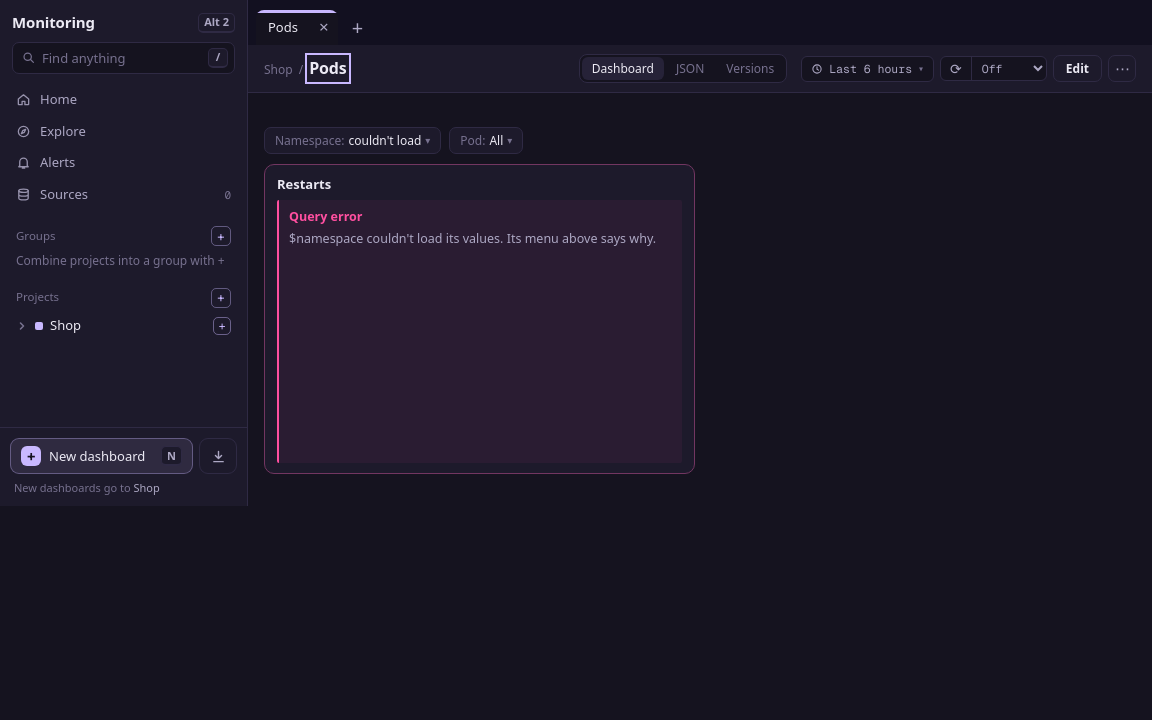
Test case: Dashboard variables › a variable whose project has no source says where to link one, without Try again
Later steps or results of the test are not shown.
Click the button "Namespace: couldn't load ▾": (353, 141) [264, 127, 441, 154]
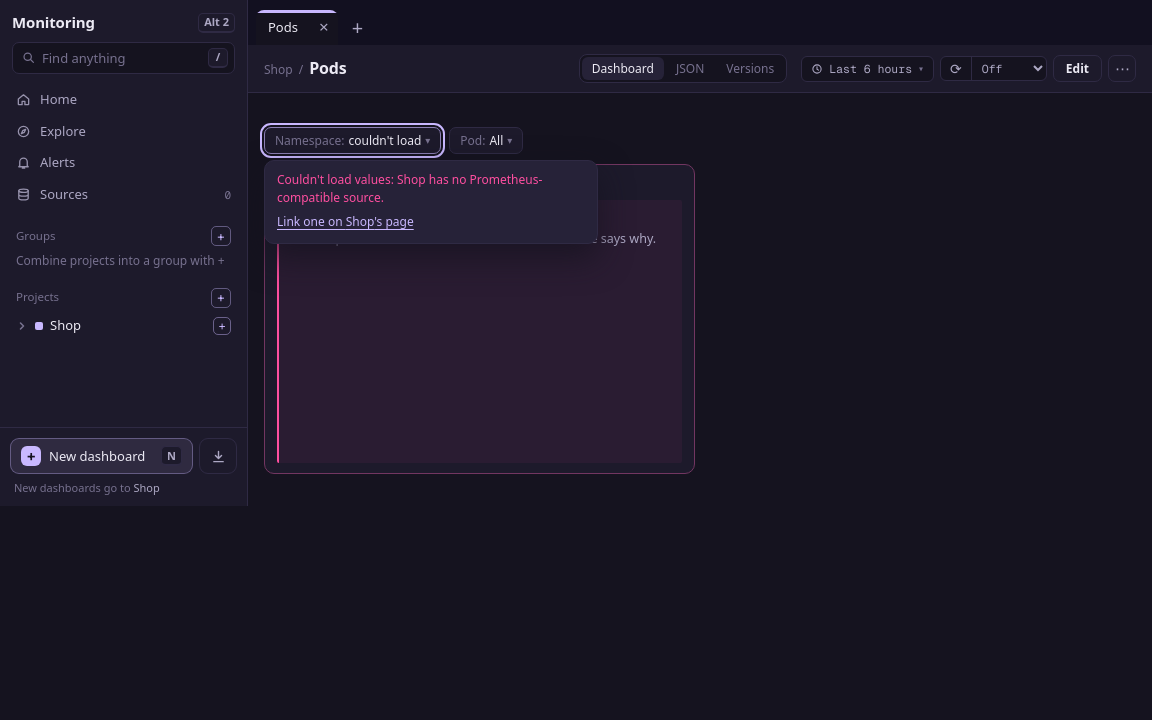
Now the text "Couldn't load values: Shop has no Prometheus-compatible source." is shown, box [277, 171, 585, 207]
